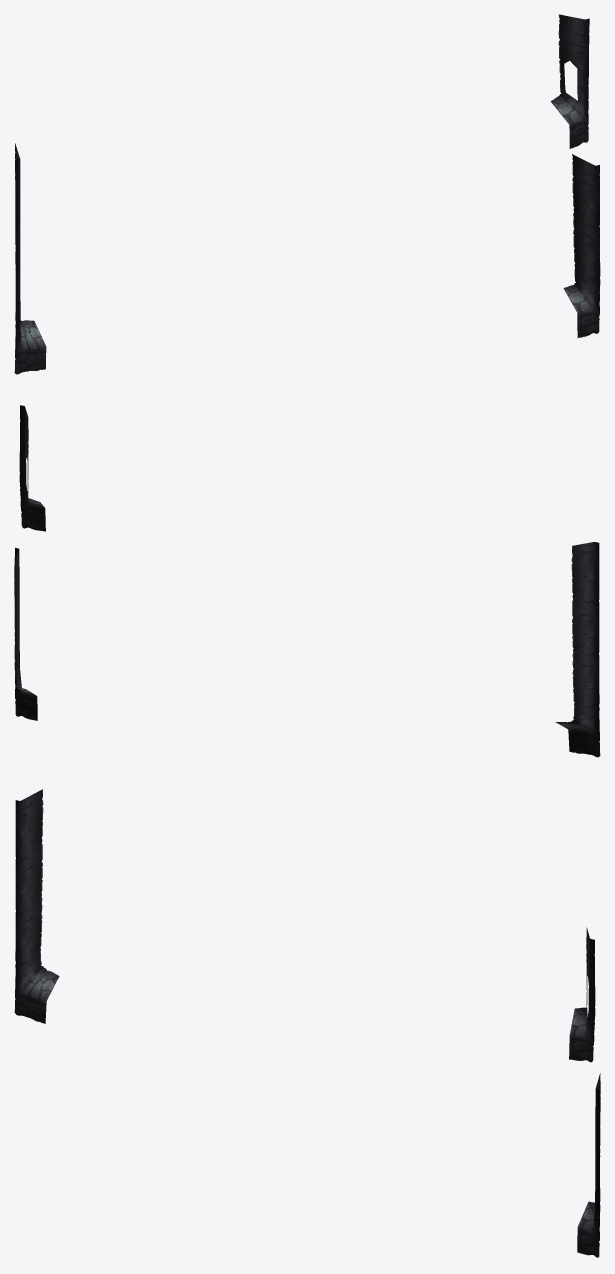
The model's file is Castle Tower_Side Walls.FBX.
The picture shows the model from 3 angles, top to bottom: view 1: azimuth 30°, elevation 25°; view 2: azimuth 150°, elevation 25°; view 3: azimuth 330°, elevation 25°; orthographic projection.
Visible parts, largest first — view 1: Side Walls; view 2: Side Walls; view 3: Side Walls.
Boxes of the visible parts, x1,y1,x2,y2 form: Side Walls: (14, 14, 600, 374); Side Walls: (14, 405, 600, 757); Side Walls: (14, 789, 600, 1257).
Bounding box in the file's own units: 5794 × 260 × 3030.
